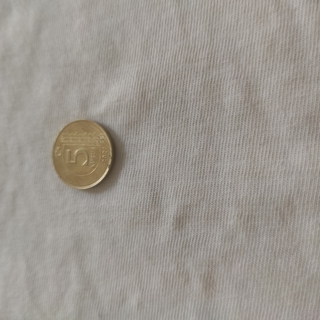5KURUS: (51, 118, 115, 191)
